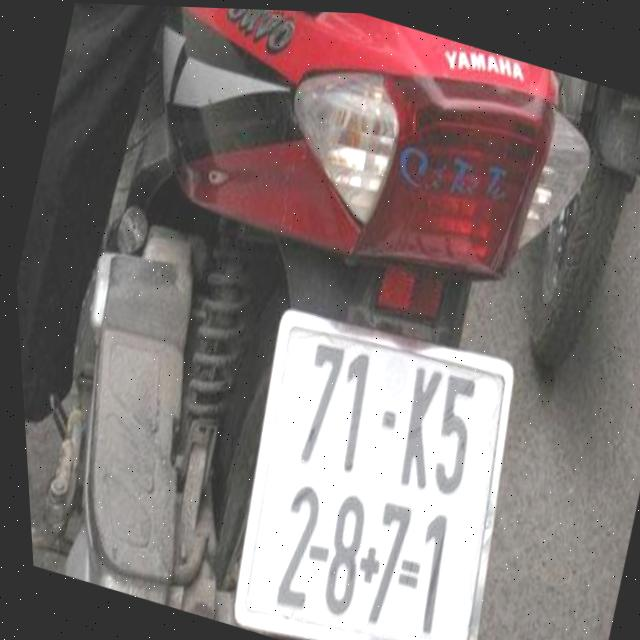motorcycle: (0, 0, 635, 640)
plate: (195, 281, 550, 640)
